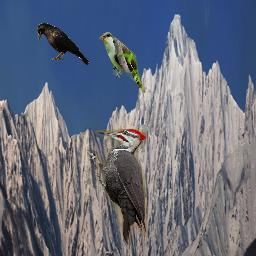Crow: (37, 23, 90, 65)
Cuckoo: (97, 32, 148, 93)
Woodpecker: (87, 129, 148, 248)
